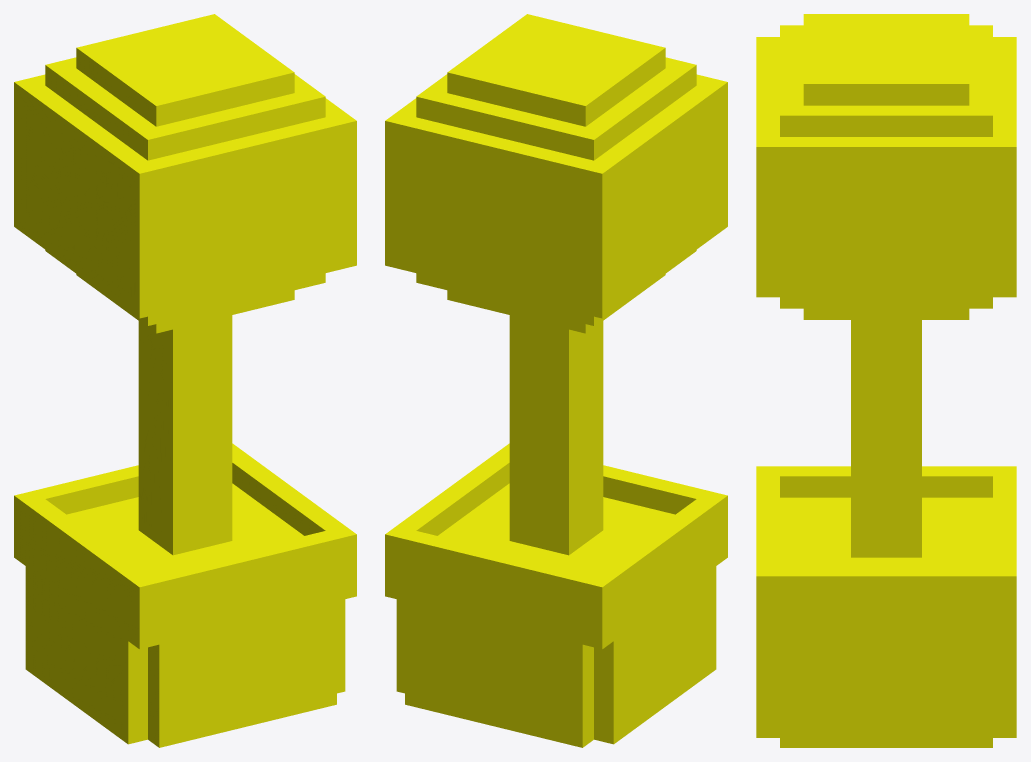
The model's file is voxel-palace-potted-tree.glb.
The picture shows the model from 3 angles, left to right: view 1: azimuth 30°, elevation 25°; view 2: azimuth 150°, elevation 25°; view 3: azimuth 270°, elevation 25°; orthographic projection. The views are drawn at different scales.
Parts seen in each view (by area): view 1: ObjObject.026; view 2: ObjObject.026; view 3: ObjObject.026.
Boxes of the visible parts, x1,y1,x2,y2 form: ObjObject.026: [14, 14, 356, 747]; ObjObject.026: [385, 14, 727, 747]; ObjObject.026: [756, 14, 1016, 747].
Bounding box in the file's own units: 1.1 × 3 × 1.1.
